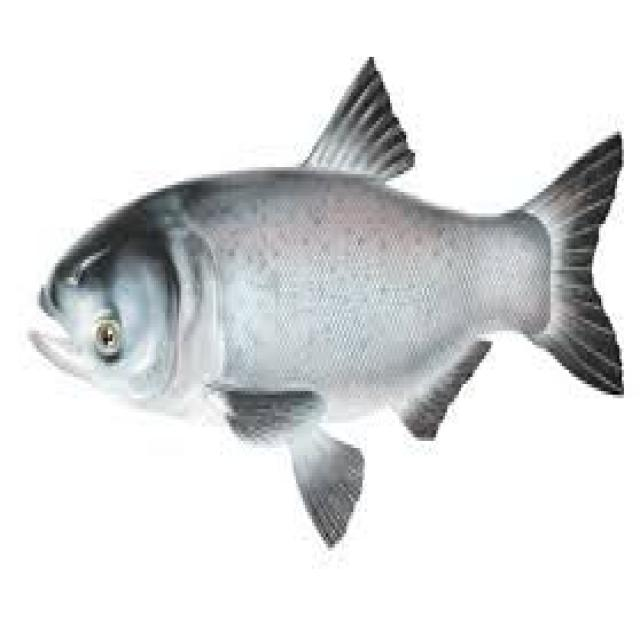Big-Head-Carp: (3, 15, 629, 615)
